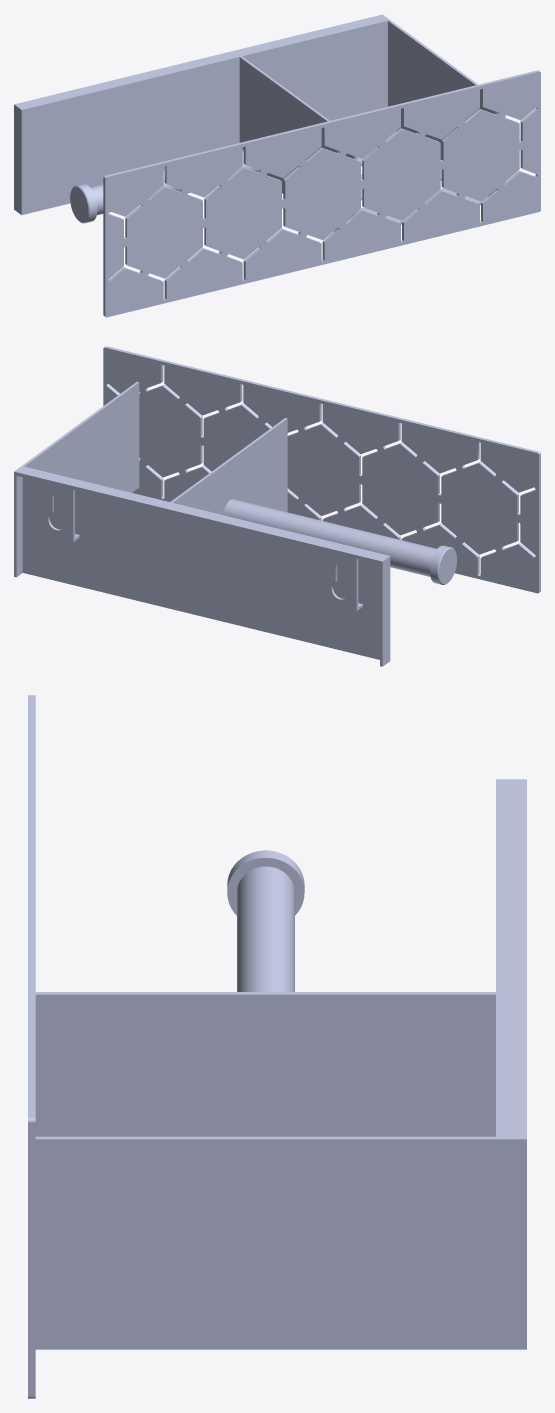
Rendered from bee-duetto.b87052e604.glb.
3 views of the same model, one above another, from view 1: azimuth 30°, elevation 25°; view 2: azimuth 150°, elevation 25°; view 3: azimuth 270°, elevation 25° (orthographic). The views are drawn at different scales.
Parts seen in each view (by area): view 1: NAUO1; view 2: NAUO1; view 3: NAUO1.
Part boxes in pixels (box(x1,y1,x2,y2)): NAUO1: box(14, 14, 540, 317); NAUO1: box(14, 346, 540, 666); NAUO1: box(28, 695, 526, 1398).
Size of the model in its own units: 0.26 by 0.08 by 0.129.
